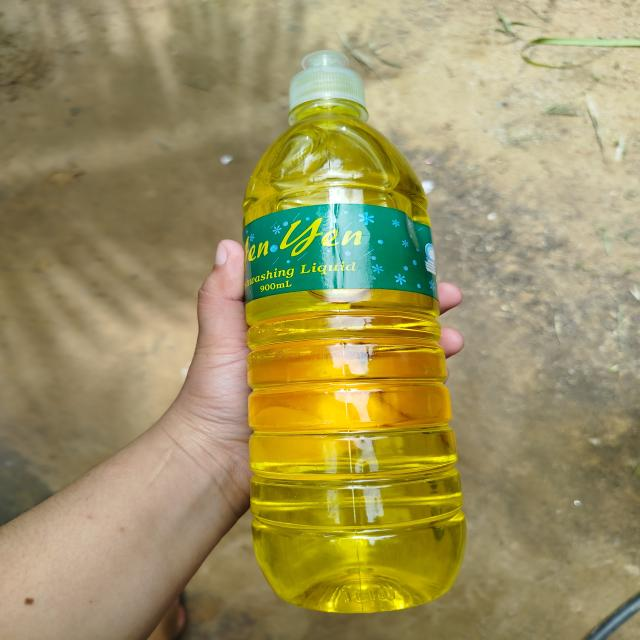plastic: (205, 20, 511, 624)
